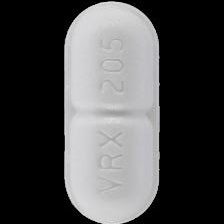0179-0126: (0, 0, 224, 224)
